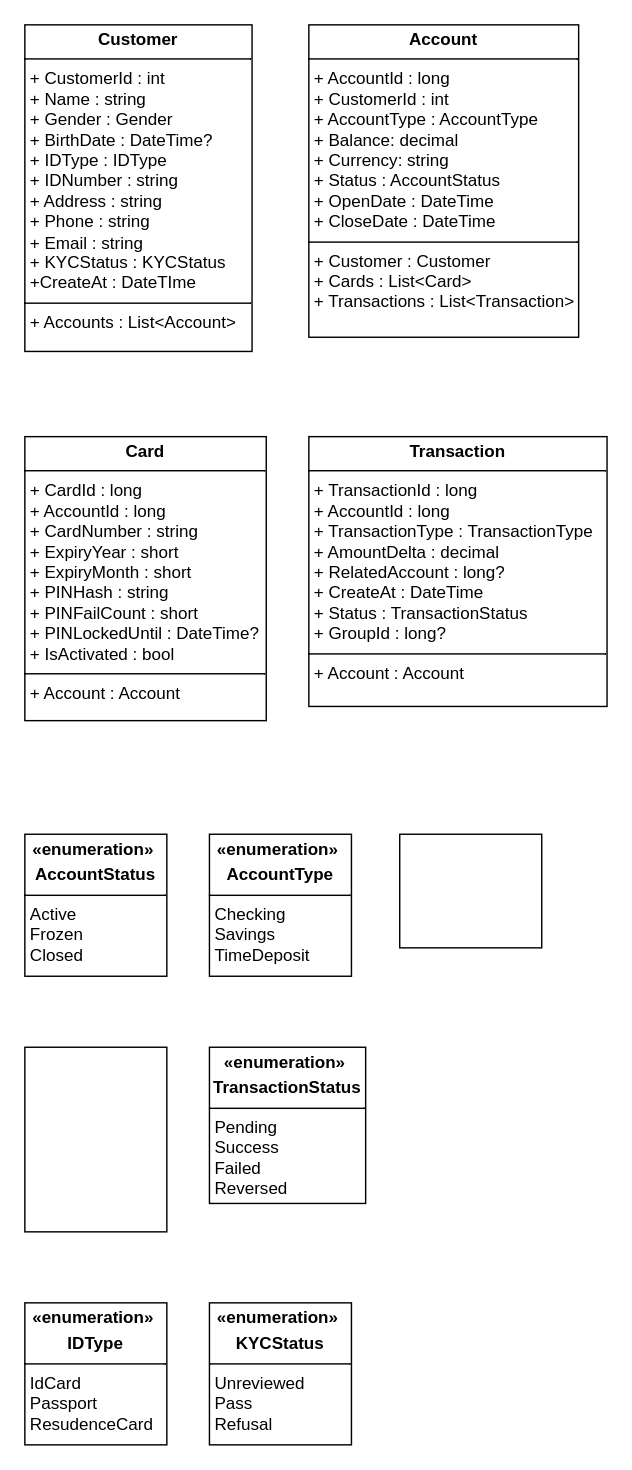
Some shapes in this 632 by 1470 pixel diagram are drawn without their labels. Each missing label, with the centre of its shape:
"«enumeration» Gender male female" goes at [470,890].
"«enumeration» TransactionType Deposit Withdraw Transfer Fee Adjustment" goes at [95,1139].
